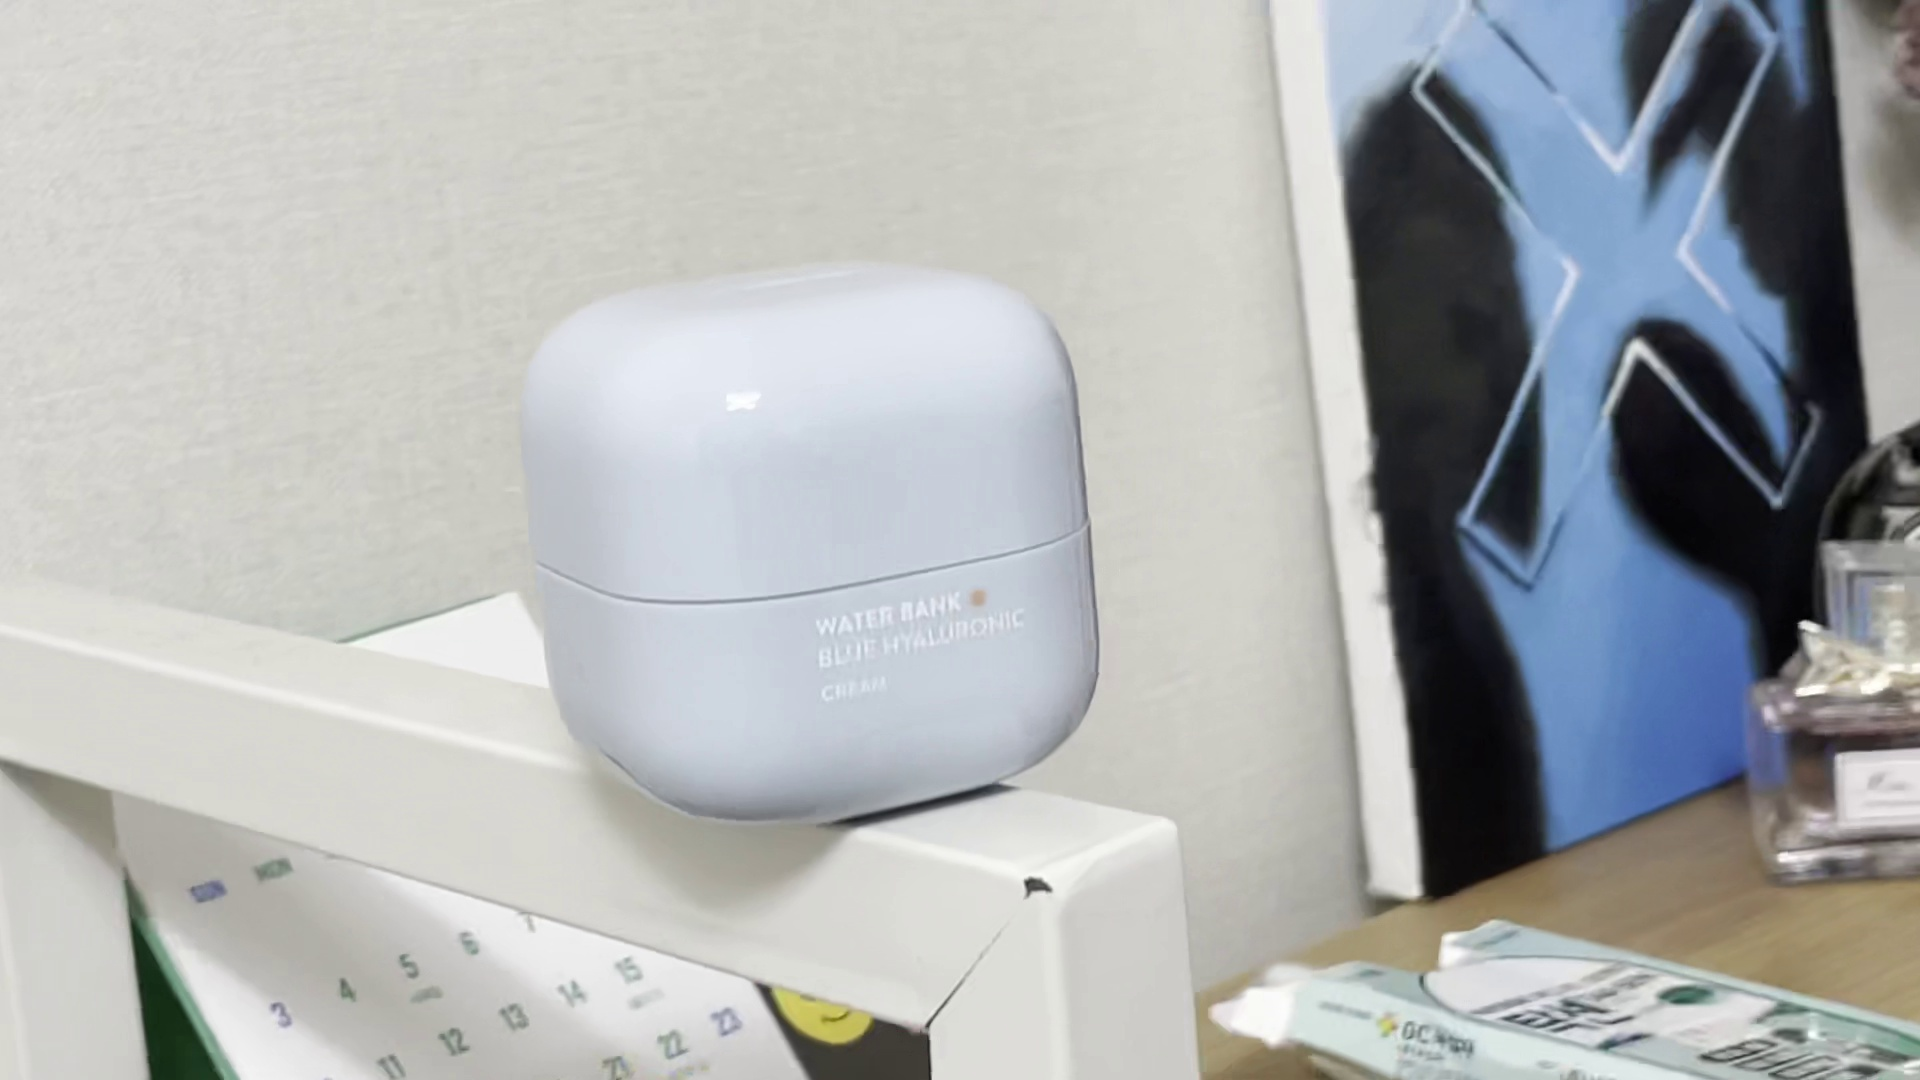cream: (514, 258, 1105, 831)
